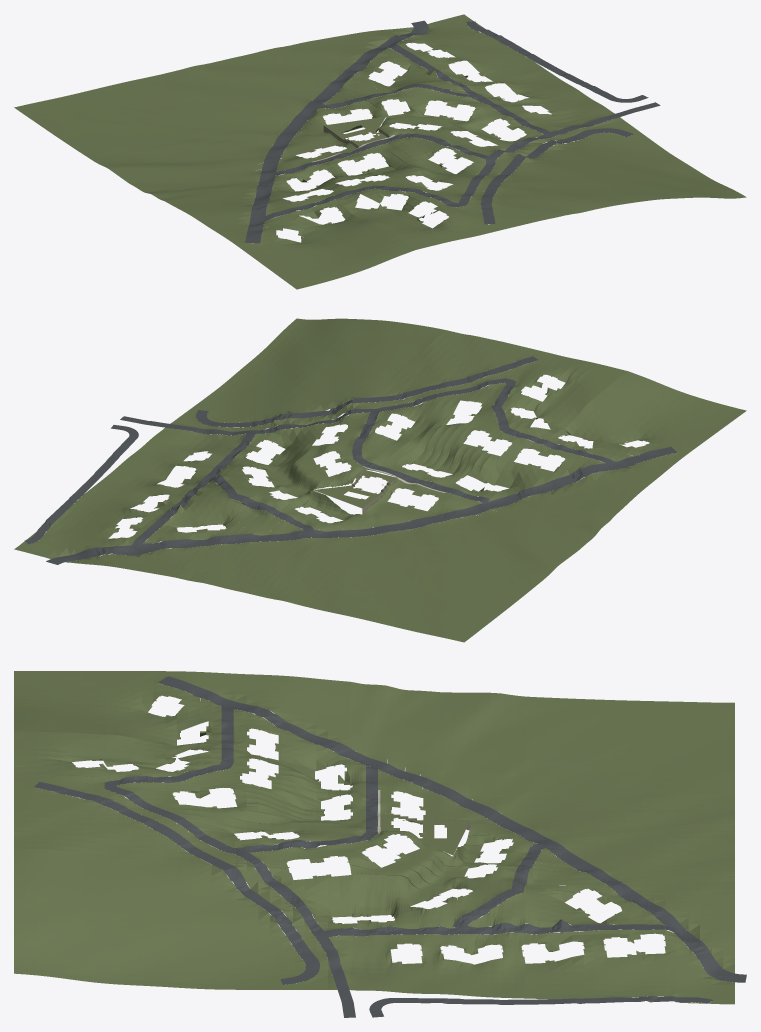
Rendered from context-garden-ground-opt-v3.glb.
3 views of the same model, one above another, from view 1: azimuth 30°, elevation 25°; view 2: azimuth 150°, elevation 25°; view 3: azimuth 270°, elevation 25° (orthographic). The views are drawn at different scales.
Visible parts, largest first — view 1: grass (1), asphalt; view 2: grass (1), asphalt; view 3: grass (1), asphalt.
Part boxes in pixels (x1=…): grass (1): x1=14, y1=14, x2=746, y2=289; asphalt: x1=245, y1=20, x2=660, y2=243; grass (1): x1=14, y1=318, x2=746, y2=642; asphalt: x1=24, y1=356, x2=677, y2=564; grass (1): x1=14, y1=671, x2=734, y2=1004; asphalt: x1=34, y1=676, x2=746, y2=1017.
Size of the model in its own units: 312 by 32.81 by 315.
Materials: 4 (4 with a texture image).
